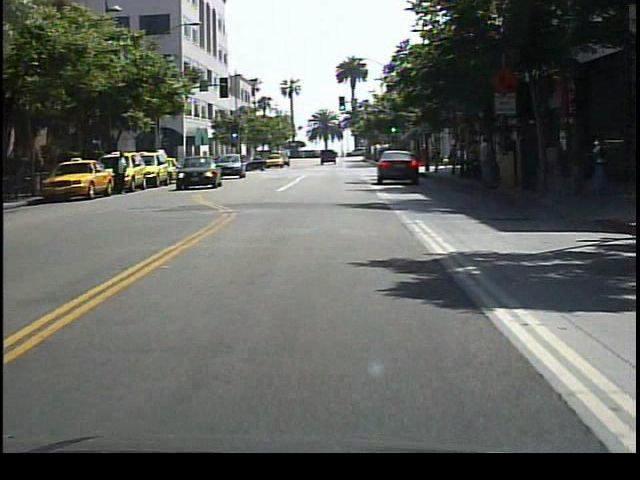person: (475, 131, 499, 197), (114, 147, 132, 198)
